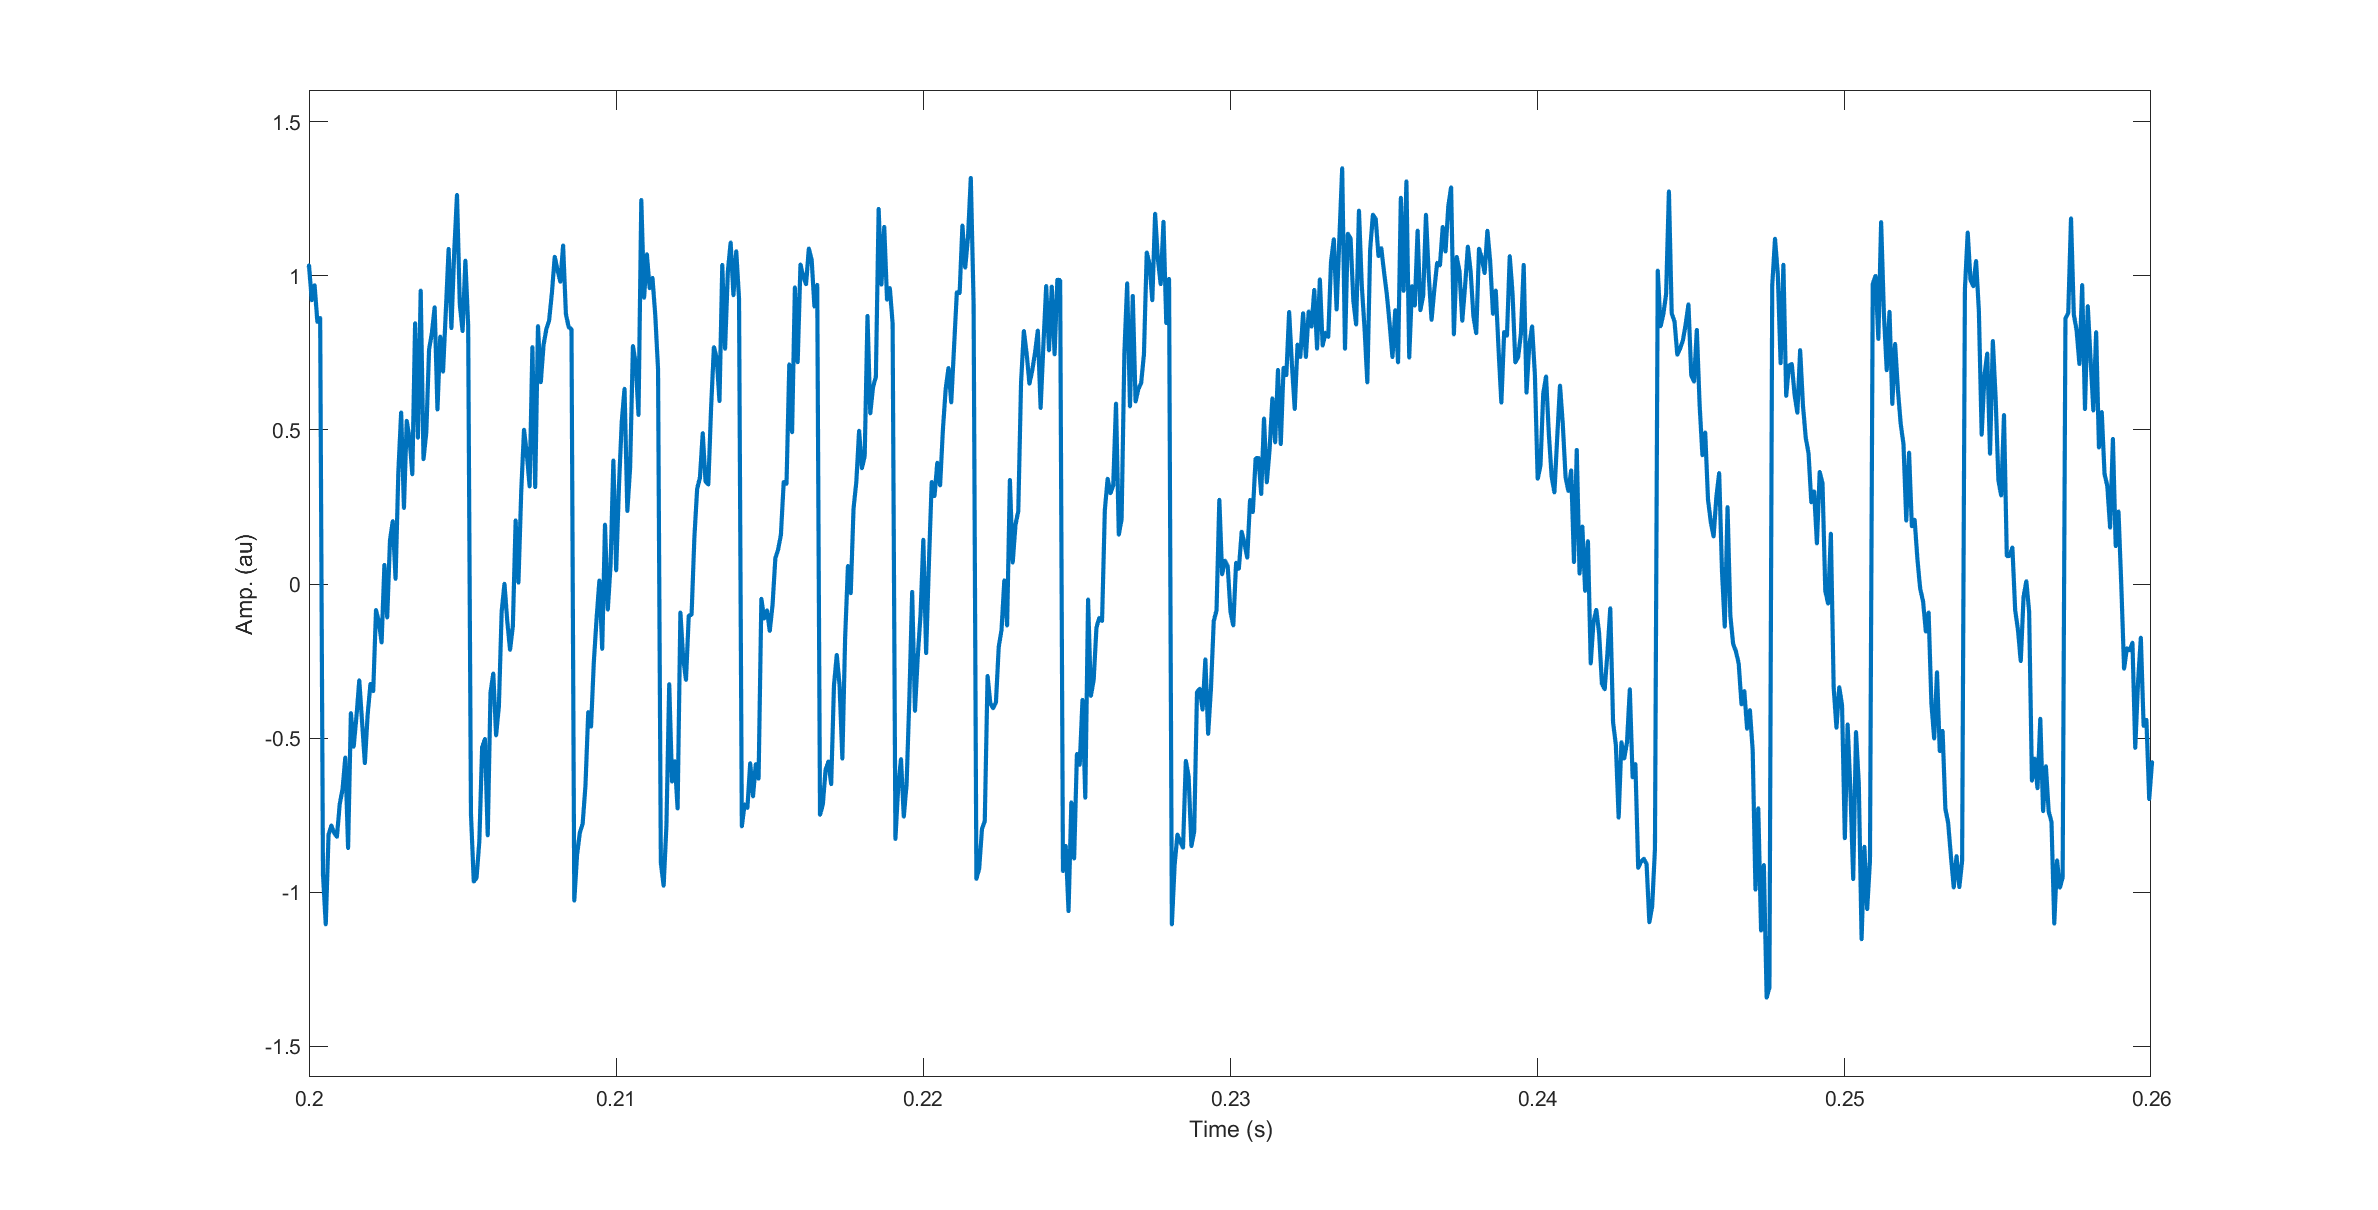negative_fringe: (1755, 225, 1860, 1009), (1637, 179, 1744, 898), (1952, 225, 2046, 903), (1866, 218, 1946, 917), (2054, 204, 2128, 903)
positive_fringe: (1071, 188, 1188, 932), (356, 179, 478, 864), (488, 230, 583, 907), (585, 191, 667, 877), (747, 235, 826, 867), (830, 204, 901, 874), (914, 165, 981, 864), (989, 265, 1068, 857), (677, 236, 747, 887)
